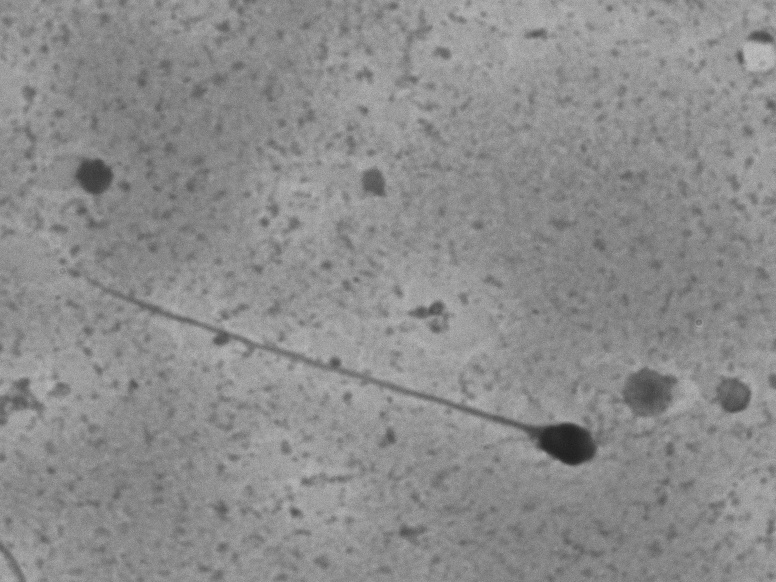Normal: (57, 248, 617, 477)
